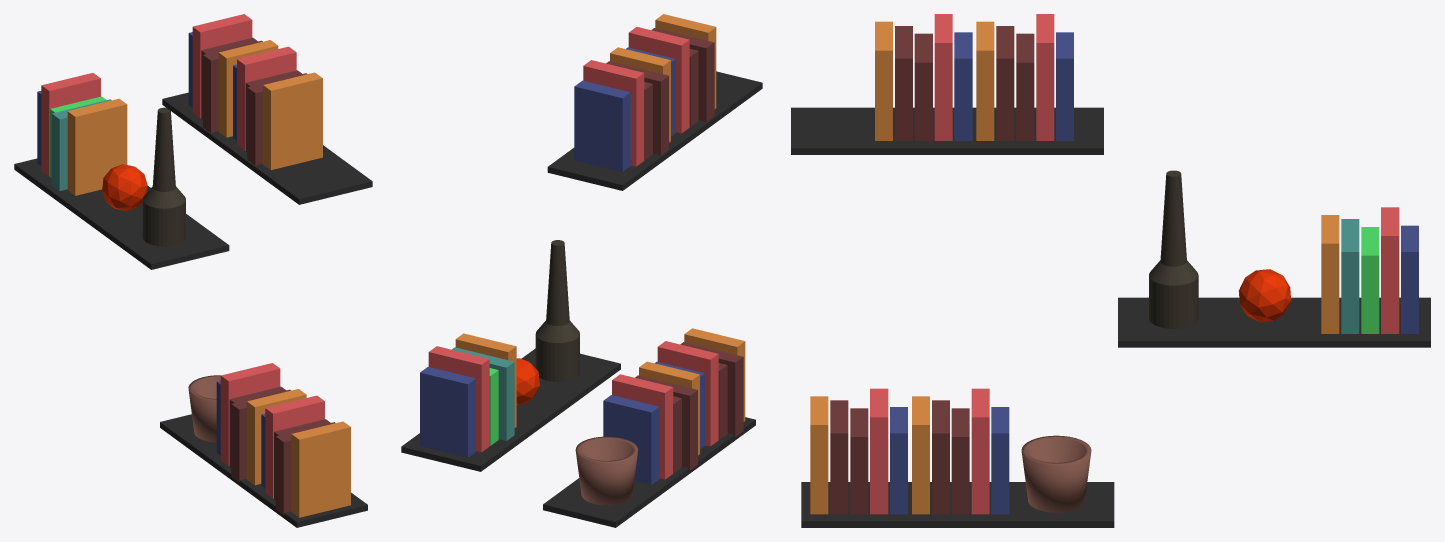
The model's file is shelf.glb.
3 renders of one model, left to right at view 1: azimuth 30°, elevation 25°; view 2: azimuth 150°, elevation 25°; view 3: azimuth 270°, elevation 25°, orthographic. The views are drawn at different scales.
Visible parts, largest first — view 1: Cube.005, Cube.018, Cube.039, Cube.004, Cube.009, Cylinder, Cube.006, Cube.016, Cube.037, Cube.021, Cube.011, Cube.042 (+14 smaller); view 2: Cube.005, Cube.012, Cube.008, Cube.004, Cylinder, Cube.006, Cylinder.009, Cube.033, Cube.016, Cube.037, Cube.021, Cube.011 (+19 smaller); view 3: Cube.005, Cube.004, Cube.006, Cylinder, Cylinder.009, Cube.011, Cube.016, Cube.021, Cube.037, Cube.042, Cube.013, Cube.009 (+19 smaller).
Boxes of the visible parts, x1,y1,x2,y2 form: Cube.005: (14, 158, 229, 269); Cube.018: (263, 72, 322, 169); Cube.039: (291, 421, 350, 517); Cube.004: (162, 92, 372, 204); Cube.009: (67, 98, 127, 195); Cylinder: (142, 107, 185, 246); Cube.006: (160, 414, 367, 527); Cube.016: (192, 14, 252, 118); Cube.037: (220, 363, 280, 465); Cube.021: (237, 46, 296, 150); Cube.011: (41, 73, 100, 176); Cube.042: (265, 395, 324, 498); Cube.005: (401, 348, 620, 471); Cube.012: (574, 80, 630, 171); Cube.008: (420, 367, 475, 457); Cube.004: (547, 71, 762, 190); Cylinder: (535, 240, 579, 381); Cube.006: (543, 417, 755, 527); Cylinder.009: (575, 436, 638, 505); Cube.033: (603, 395, 659, 484); Cube.016: (583, 60, 644, 166); Cube.037: (612, 374, 673, 479); Cube.021: (628, 27, 689, 133); Cube.011: (428, 346, 489, 452); Cube.005: (1118, 297, 1430, 347); Cube.004: (791, 107, 1103, 154); Cube.006: (801, 482, 1114, 527); Cylinder: (1149, 170, 1198, 328); Cylinder.009: (1021, 435, 1091, 512); Cube.011: (1381, 207, 1399, 333); Cube.016: (1036, 14, 1054, 140); Cube.021: (934, 14, 952, 140); Cube.037: (971, 388, 989, 514); Cube.042: (870, 388, 888, 514); Cube.013: (976, 21, 994, 140); Cube.009: (1321, 215, 1339, 333).
Bounding box in the file's own units: 0.4521 × 2.32 × 2.82.
